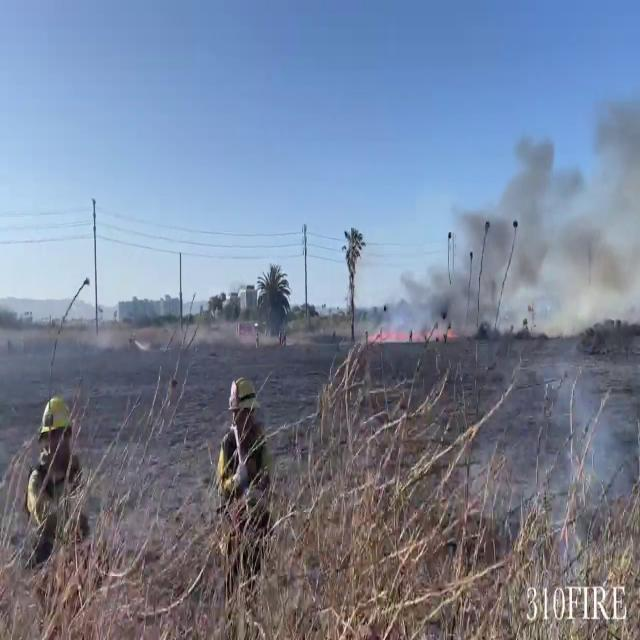Smoke: (376, 90, 640, 347)
